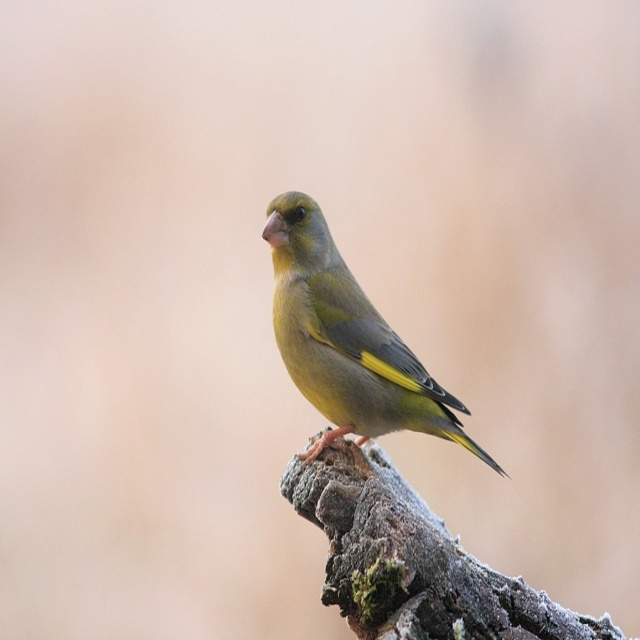Canary: (262, 189, 511, 480)
